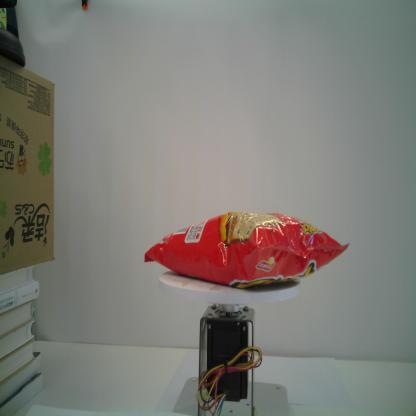Puffed Food: (143, 210, 352, 289)
